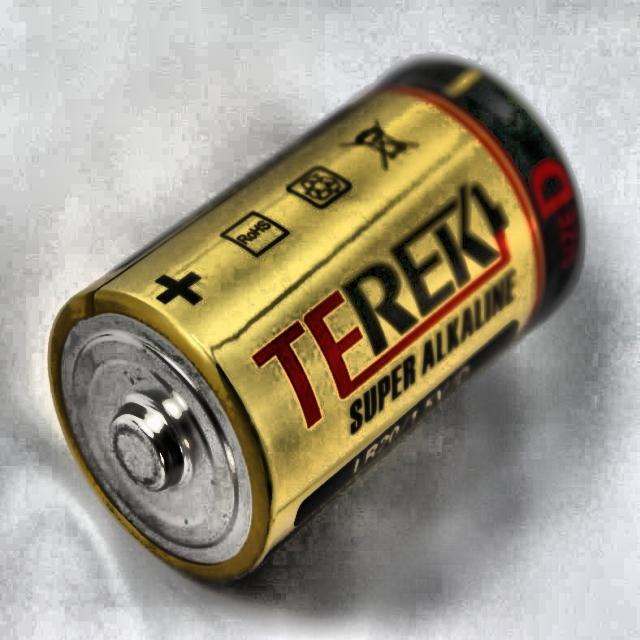Non-Valuable Waste - Batteries: (50, 60, 580, 578)
